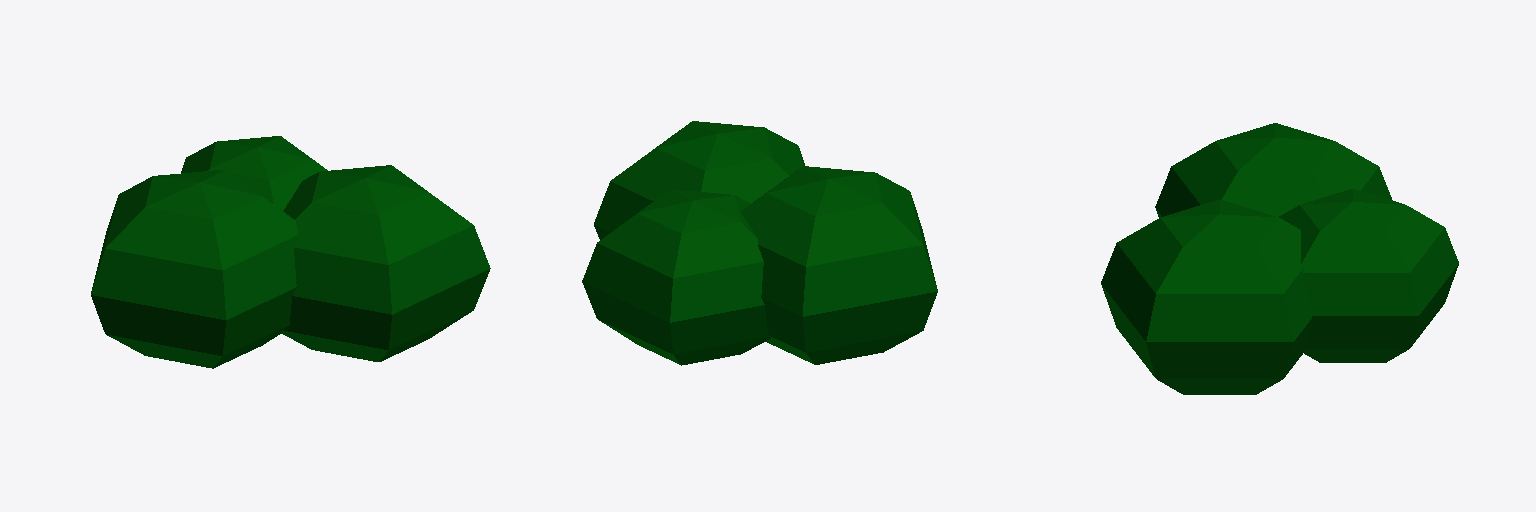
The model's file is bush2.obj.
3 renders of one model, left to right at view 1: azimuth 30°, elevation 25°; view 2: azimuth 150°, elevation 25°; view 3: azimuth 270°, elevation 25°, orthographic.
Visible parts, largest first — view 1: bush_Sphere; view 2: bush_Sphere; view 3: bush_Sphere.
Part boxes in pixels (bbox=[...]): bush_Sphere: bbox=[91, 136, 490, 368]; bush_Sphere: bbox=[582, 121, 937, 365]; bush_Sphere: bbox=[1101, 123, 1458, 394].
Size of the model in its own units: 1.44 by 0.733 by 1.33.